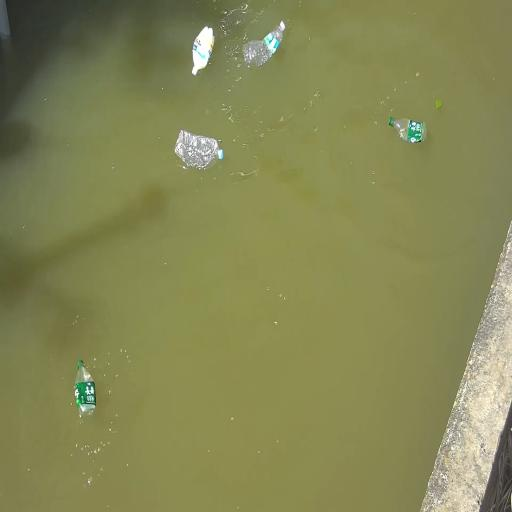plastic: (243, 21, 285, 67), (175, 127, 223, 166), (75, 360, 95, 417), (192, 26, 214, 75), (389, 118, 426, 143)
